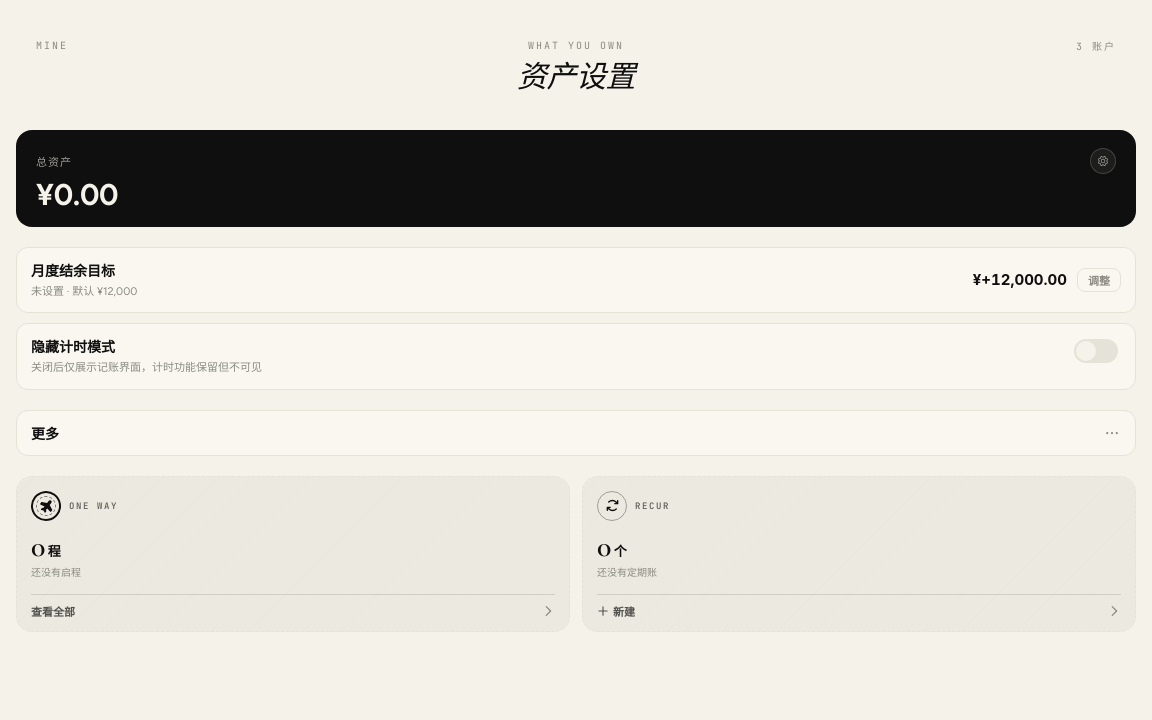
MinePage · 布局重排（TASK-064） › ⚙ 弹层只保留钱包模式，不再重复这两项设置
Click the button named "钱包设置" at [1103, 161], box [1090, 148, 1116, 174]
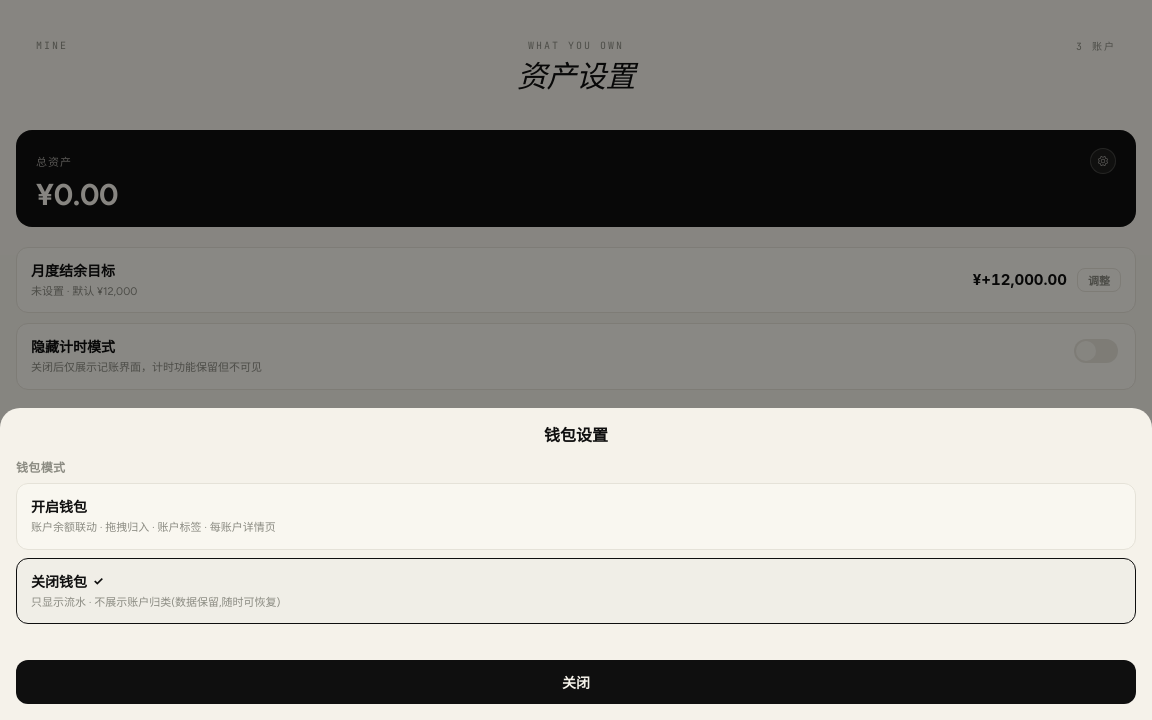
Now the text "钱包模式" is shown, box [16, 461, 66, 475]
